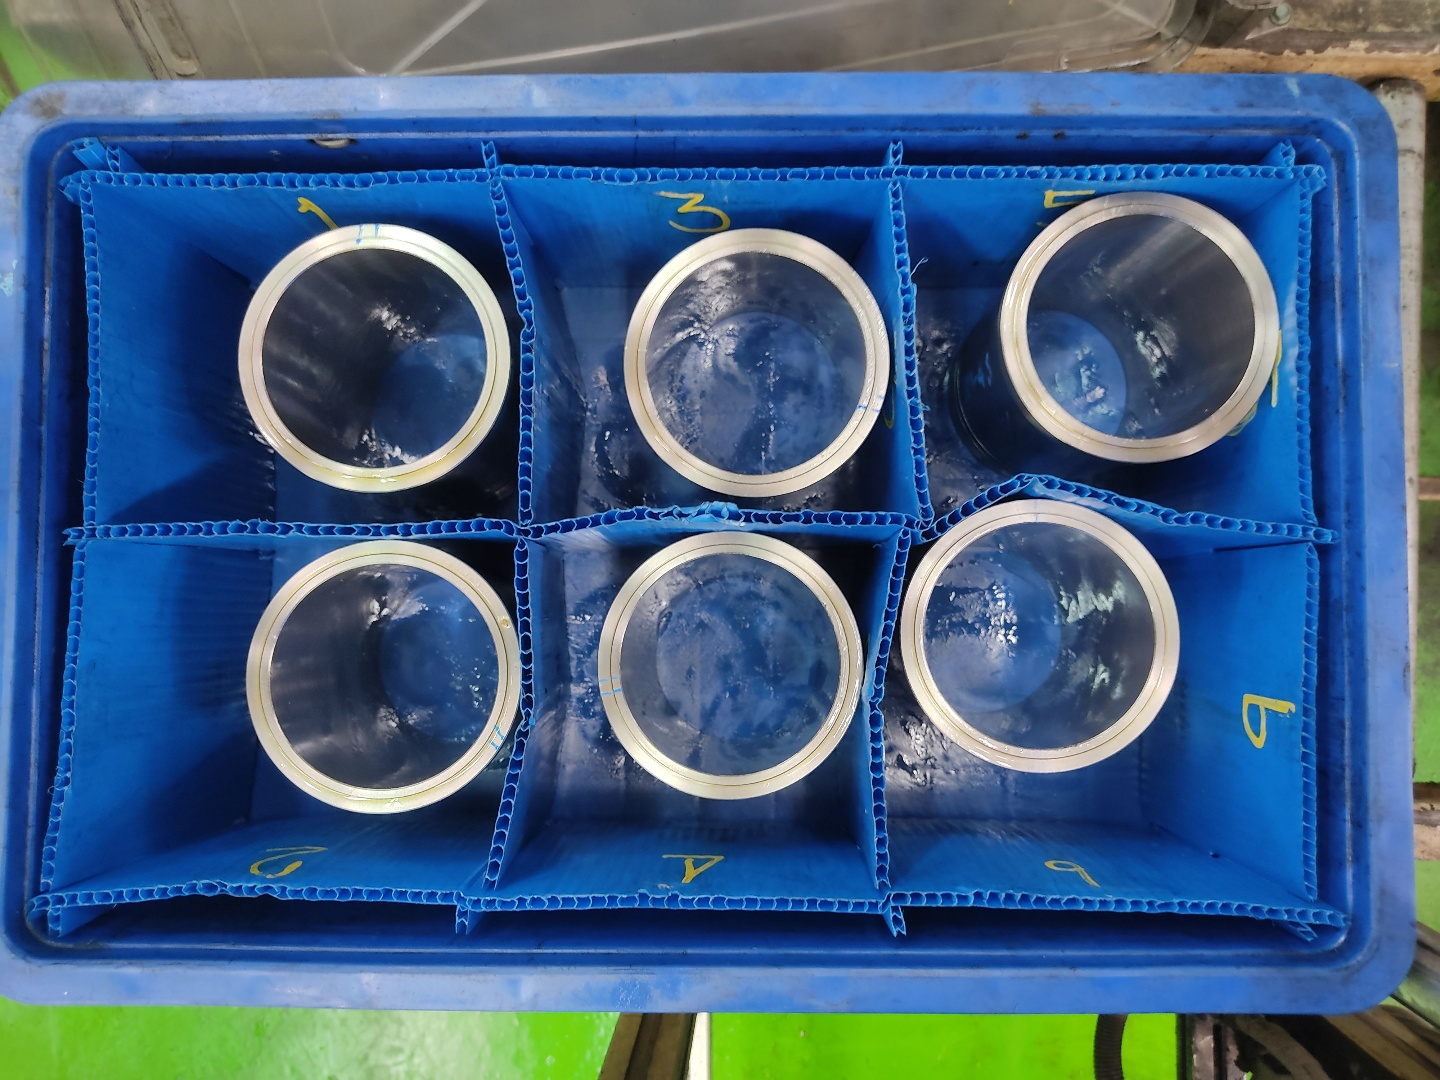cylinder: (895, 495, 1187, 781), (994, 185, 1285, 467), (242, 535, 524, 818), (234, 218, 514, 499), (617, 223, 893, 503), (593, 528, 869, 807)
